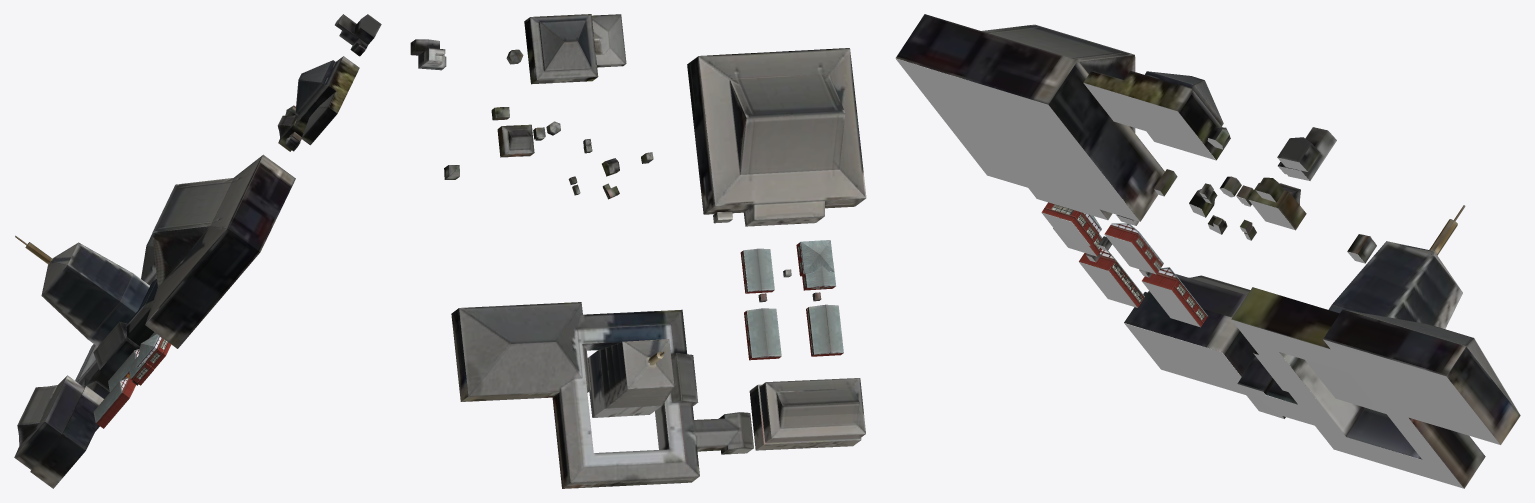
3 renders of one model, left to right at view 1: azimuth 30°, elevation 25°; view 2: azimuth 150°, elevation 25°; view 3: azimuth 270°, elevation 25°, orthographic. The views are drawn at different scales.
Bounding box in the file's own units: 149 × 128 × 145.
16 materials, 14 textured.
